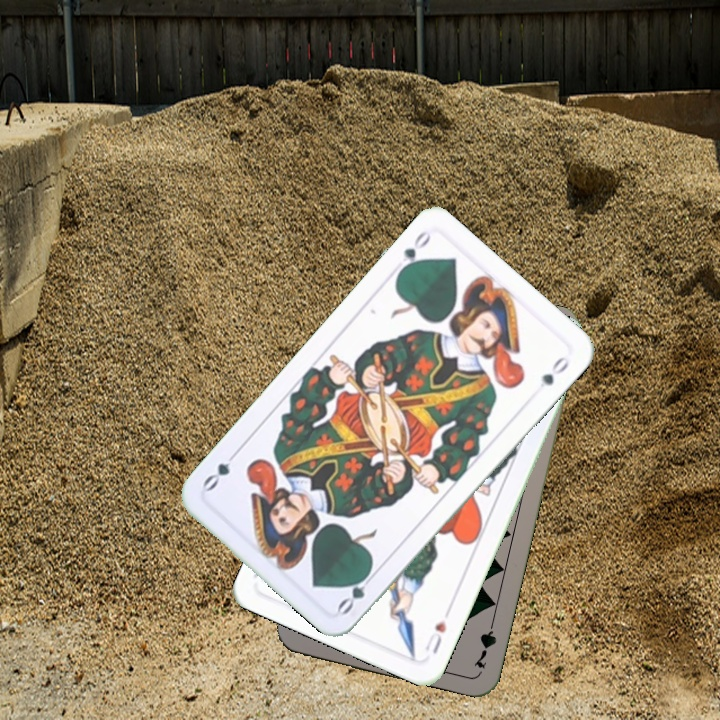G7: (469, 613, 499, 671)
GO: (333, 564, 380, 617), (393, 226, 434, 278)
HU: (421, 616, 449, 657)
